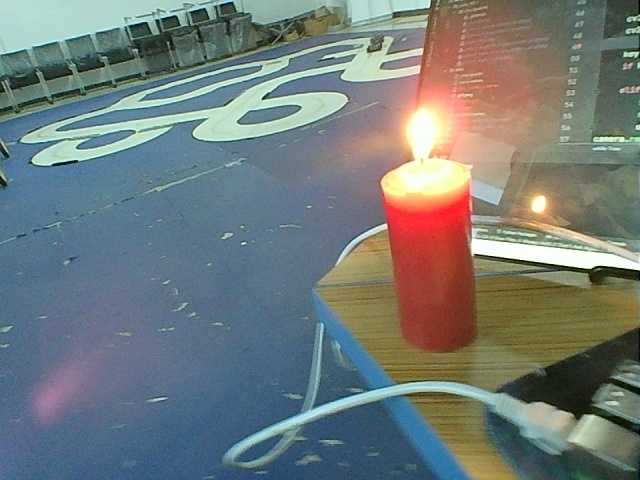candle: (375, 169, 489, 360)
fire: (396, 101, 446, 168), (517, 186, 550, 216)
